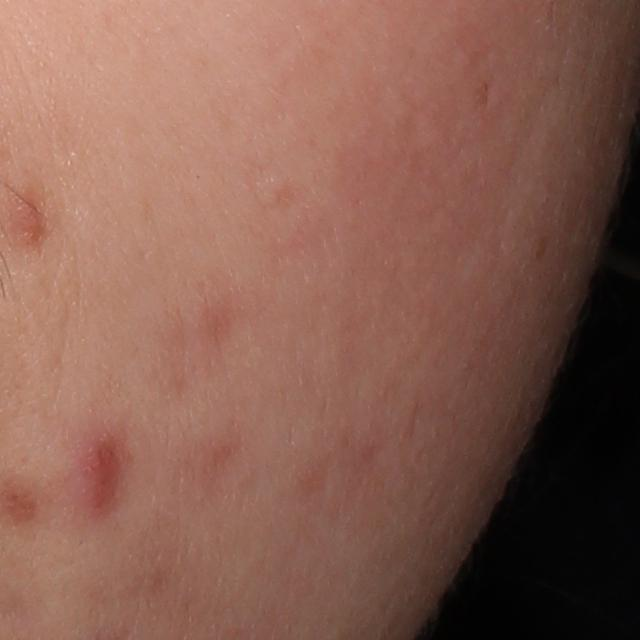papule: (75, 433, 128, 511), (8, 185, 48, 243)
